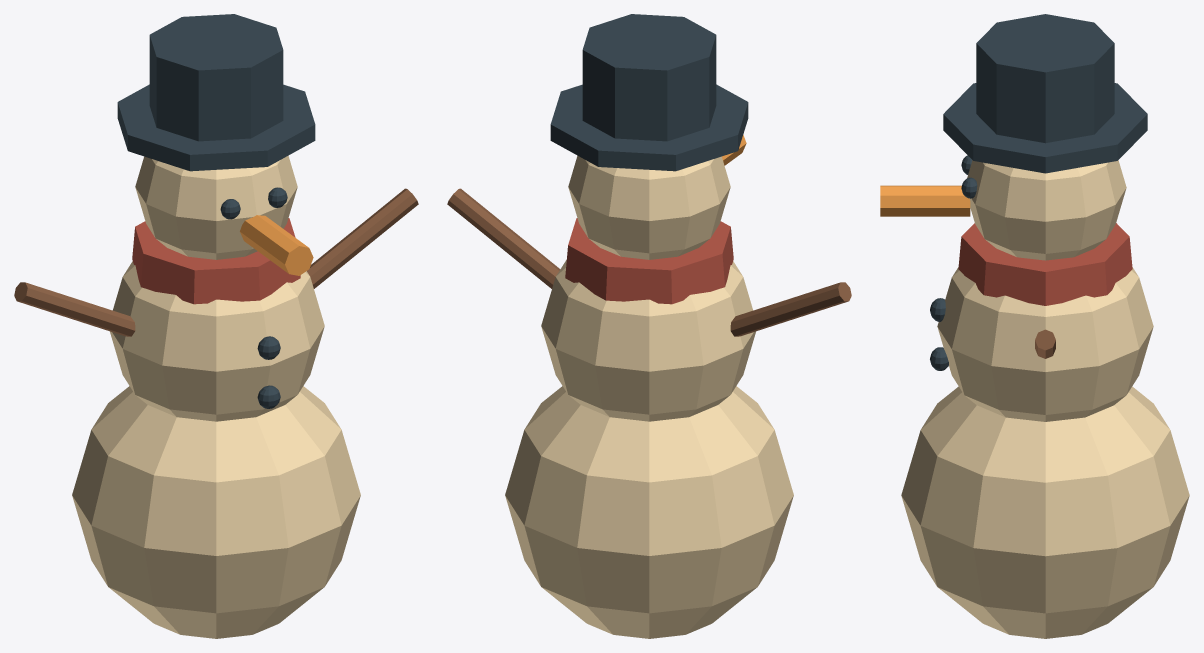
File: snowman.glb
The picture shows the model from 3 angles, left to right: view 1: azimuth 30°, elevation 25°; view 2: azimuth 150°, elevation 25°; view 3: azimuth 270°, elevation 25°; orthographic projection.
Parts seen in each view (by area): view 1: snow, snow.001, hat, snow.002, brim, scarf, arm.001, arm, carrot; view 2: snow, snow.001, hat, snow.002, scarf, brim, arm.001, arm; view 3: snow, snow.001, hat, snow.002, scarf, brim, carrot, arm.001.
Boxes of the visible parts, left/top/right/bottom form: snow: left=72, top=386, right=360, bottom=638; snow.001: left=110, top=261, right=324, bottom=421; hat: left=149, top=14, right=283, bottom=141; snow.002: left=135, top=155, right=297, bottom=259; brim: left=117, top=84, right=315, bottom=171; scarf: left=132, top=218, right=300, bottom=304; arm.001: left=307, top=188, right=418, bottom=288; arm: left=14, top=282, right=135, bottom=336; carrot: left=240, top=215, right=313, bottom=275; snow: left=505, top=386, right=793, bottom=638; snow.001: left=541, top=259, right=755, bottom=421; hat: left=582, top=14, right=716, bottom=141; snow.002: left=568, top=155, right=730, bottom=259; scarf: left=565, top=218, right=733, bottom=304; brim: left=550, top=84, right=748, bottom=171; arm.001: left=447, top=188, right=560, bottom=288; arm: left=730, top=282, right=851, bottom=336; snow: left=901, top=386, right=1189, bottom=638; snow.001: left=937, top=267, right=1153, bottom=421; hat: left=976, top=14, right=1114, bottom=143; snow.002: left=967, top=160, right=1126, bottom=260; scarf: left=958, top=223, right=1132, bottom=305; brim: left=943, top=83, right=1147, bottom=173; carrot: left=880, top=185, right=970, bottom=216; arm.001: left=1035, top=329, right=1055, bottom=358.
Size of the model in its own units: 1.53 by 2.14 by 1.03.
